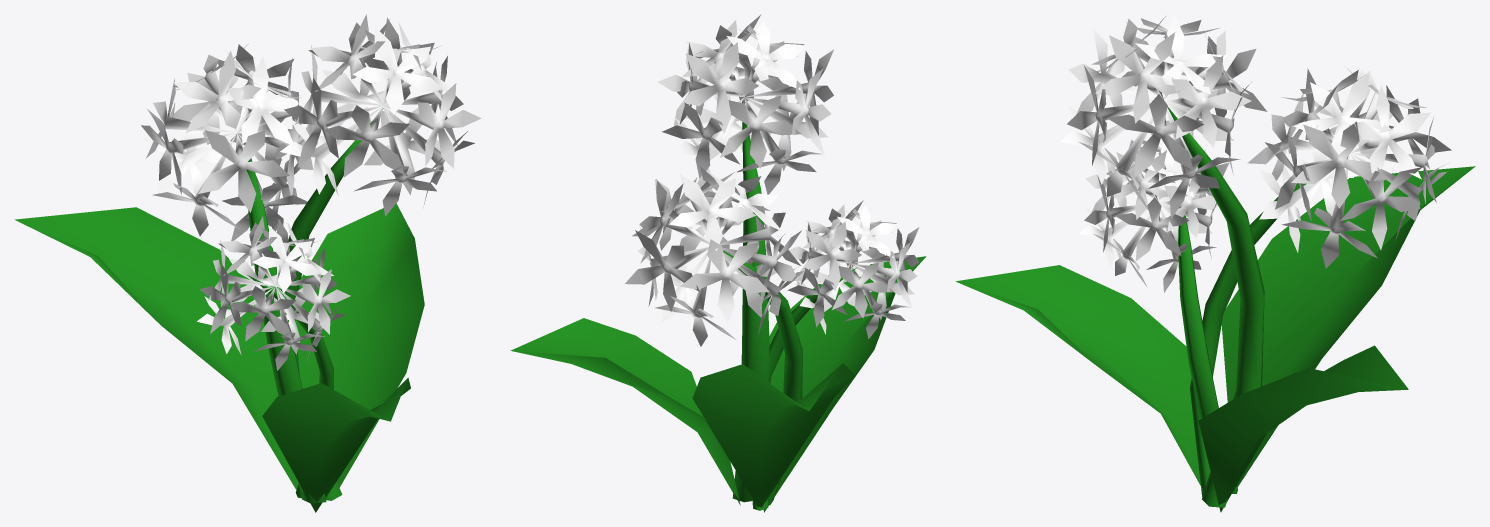
Rendered from flower-white.glb.
3 views of the same model, side by side, from view 1: azimuth 30°, elevation 25°; view 2: azimuth 150°, elevation 25°; view 3: azimuth 270°, elevation 25° (orthographic). The views are drawn at different scales.
Visible parts, largest first — view 1: Flower.030; view 2: Flower.030; view 3: Flower.030.
Part boxes in pixels (x1=…): Flower.030: x1=15, y1=14, x2=481, y2=512; Flower.030: x1=510, y1=14, x2=926, y2=512; Flower.030: x1=955, y1=14, x2=1475, y2=512.
Bounding box in the file's own units: 2.09 × 2.81 × 2.59.
